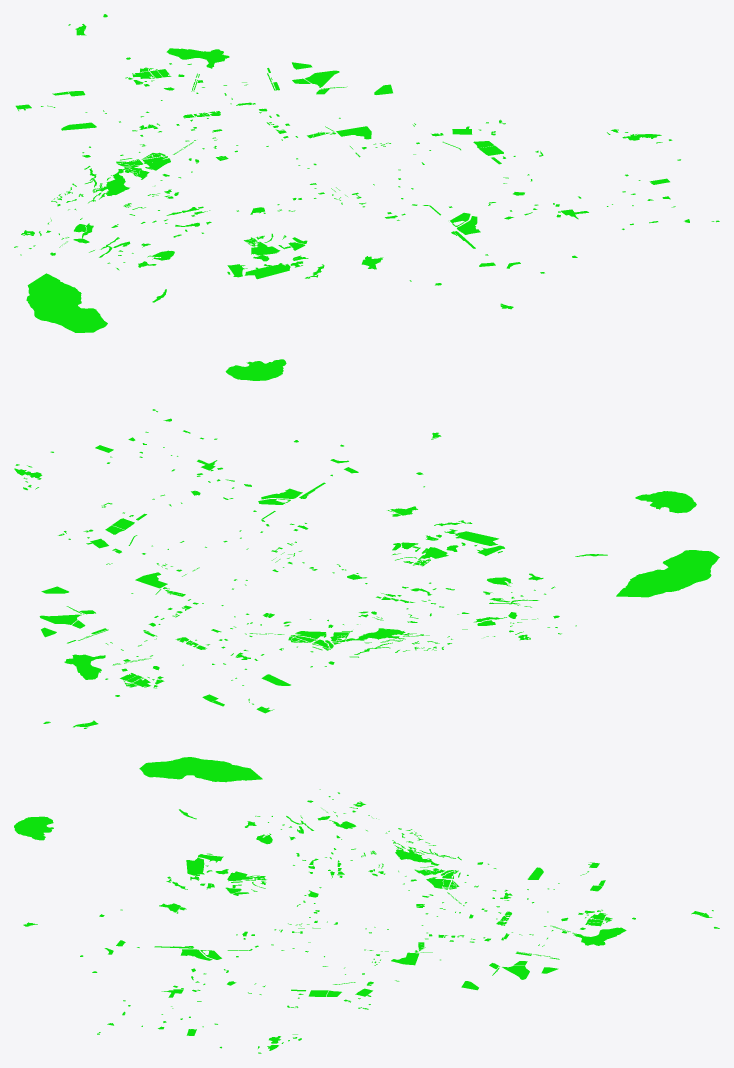
The model's file is Areas_verdes_limpio.fbx.
The picture shows the model from 3 angles, top to bottom: view 1: azimuth 30°, elevation 25°; view 2: azimuth 150°, elevation 25°; view 3: azimuth 270°, elevation 25°; orthographic projection. The views are drawn at different scales.
Visible parts, largest first — view 1: Areas_verdes; view 2: Areas_verdes; view 3: Areas_verdes.
Boxes of the visible parts, <box> form: Areas_verdes: <box>14,14,719,380</box>; Areas_verdes: <box>14,409,719,728</box>; Areas_verdes: <box>14,757,719,1053</box>.
Bounding box in the file's own units: 3816456 × 4036200 × 99593.
